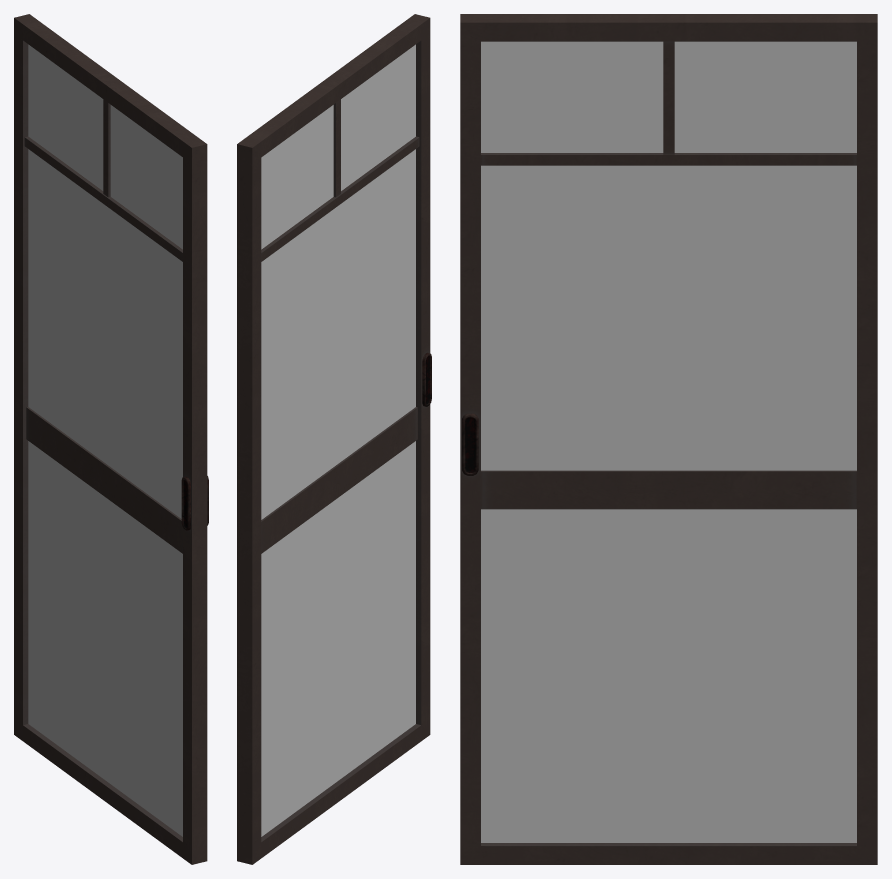
The model's file is SM_Door_03.fbx.
3 views of the same model, side by side, from view 1: azimuth 30°, elevation 25°; view 2: azimuth 150°, elevation 25°; view 3: azimuth 270°, elevation 25° (orthographic). The views are drawn at different scales.
Parts seen in each view (by area): view 1: SM_Door_03_LOD0; view 2: SM_Door_03_LOD0; view 3: SM_Door_03_LOD0.
Boxes of the visible parts, <box> form: SM_Door_03_LOD0: <box>14,14,208,864</box>; SM_Door_03_LOD0: <box>237,14,431,864</box>; SM_Door_03_LOD0: <box>460,14,877,864</box>.
Size of the model in its own units: 5.34 by 80 by 178.
